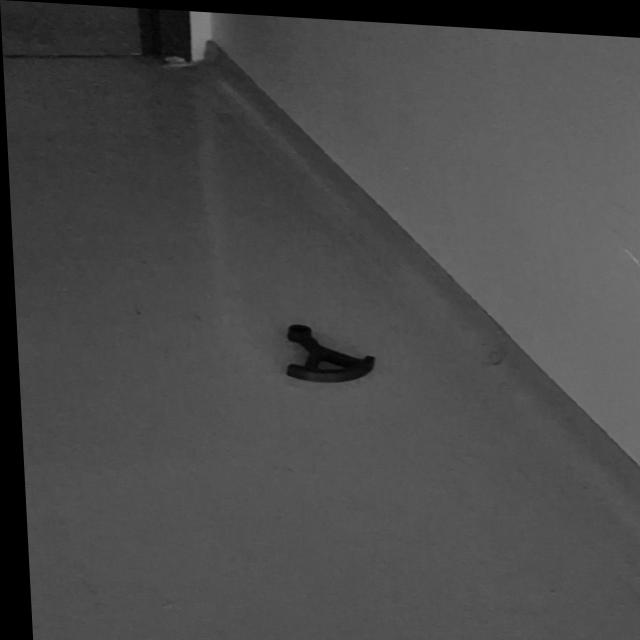haptic: (281, 322, 378, 387)
